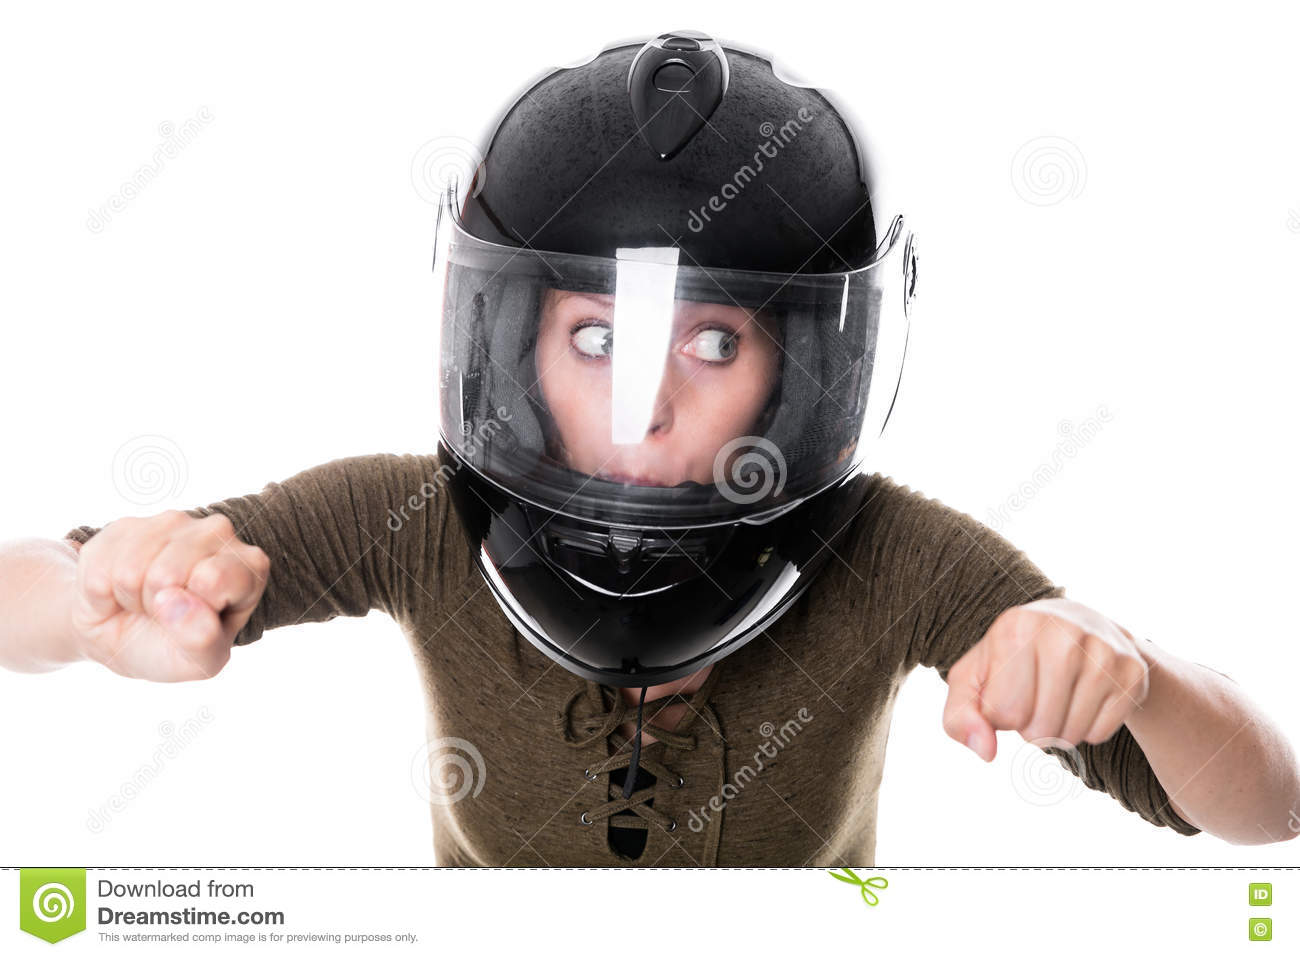helmet: (435, 52, 915, 663)
